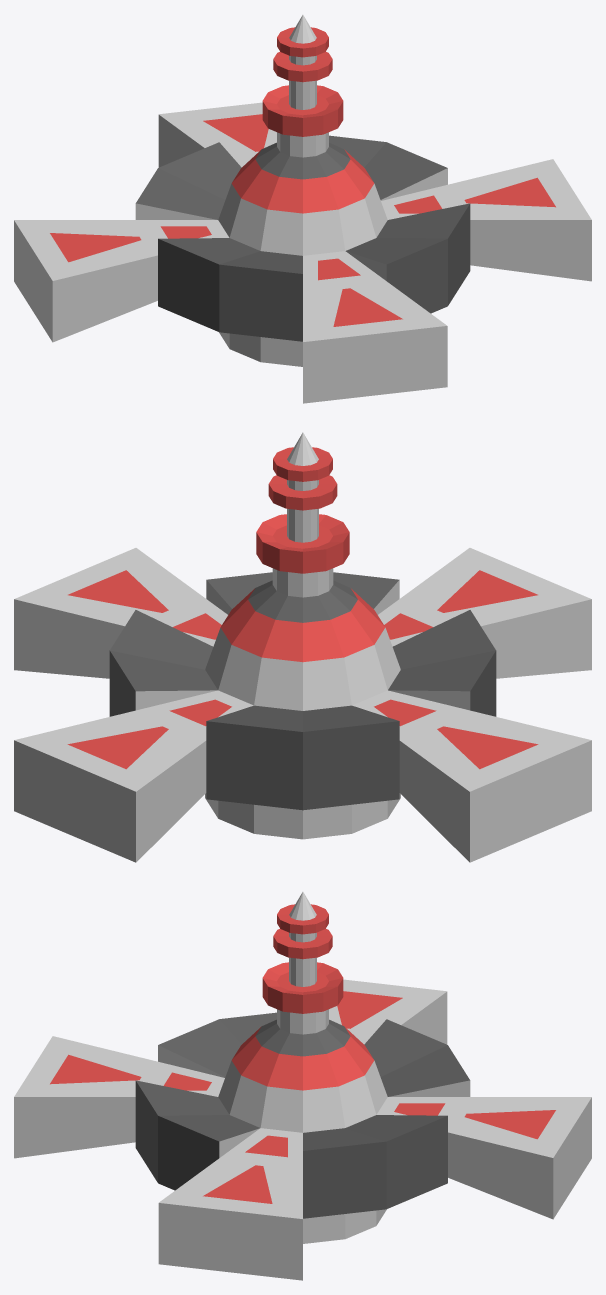
The model's file is energy.fbx.
3 views of the same model, one above another, from view 1: azimuth 30°, elevation 25°; view 2: azimuth 150°, elevation 25°; view 3: azimuth 270°, elevation 25° (orthographic). The views are drawn at different scales.
Parts seen in each view (by area): view 1: EnergyCentral; view 2: EnergyCentral; view 3: EnergyCentral.
Boxes of the visible parts, x1=… form: EnergyCentral: x1=14, y1=15, x2=591, y2=403; EnergyCentral: x1=14, y1=432, x2=591, y2=862; EnergyCentral: x1=14, y1=892, x2=591, y2=1280.
Size of the model in its own units: 682 by 412 by 682.
